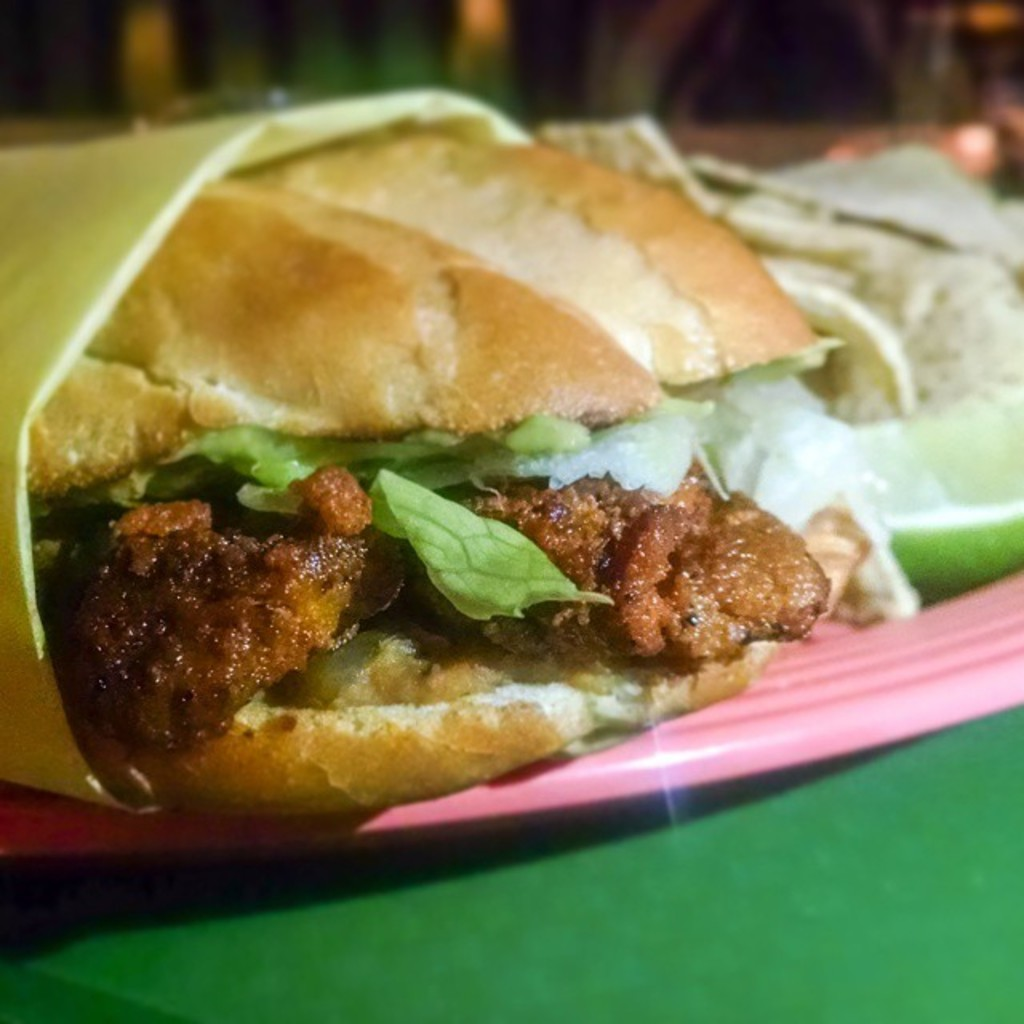Hamburger: (24, 137, 832, 820)
